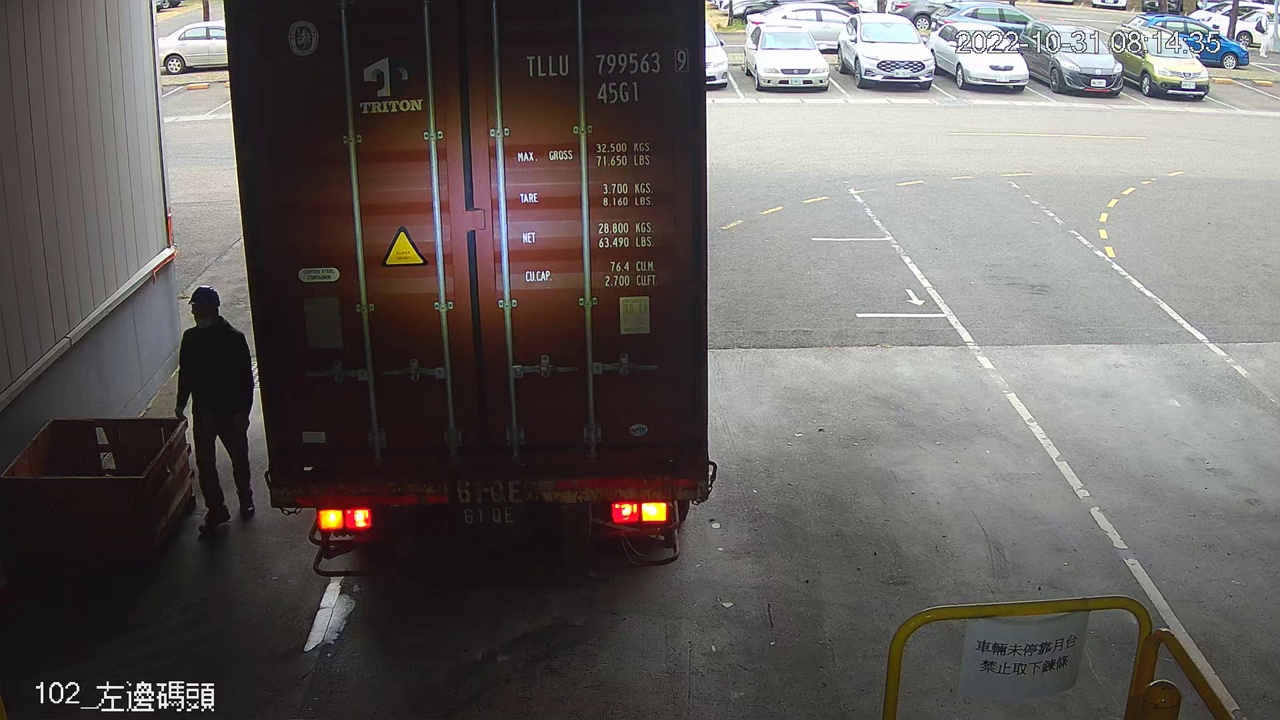container: (518, 42, 694, 108)
